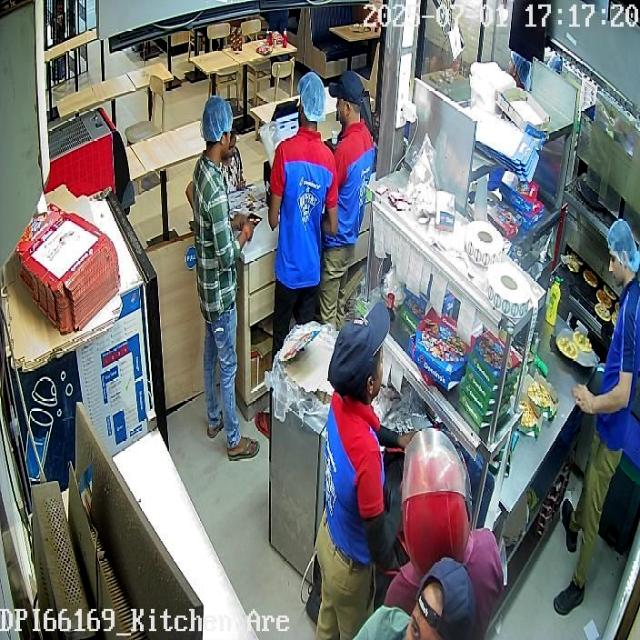helmet: (400, 429, 473, 575)
